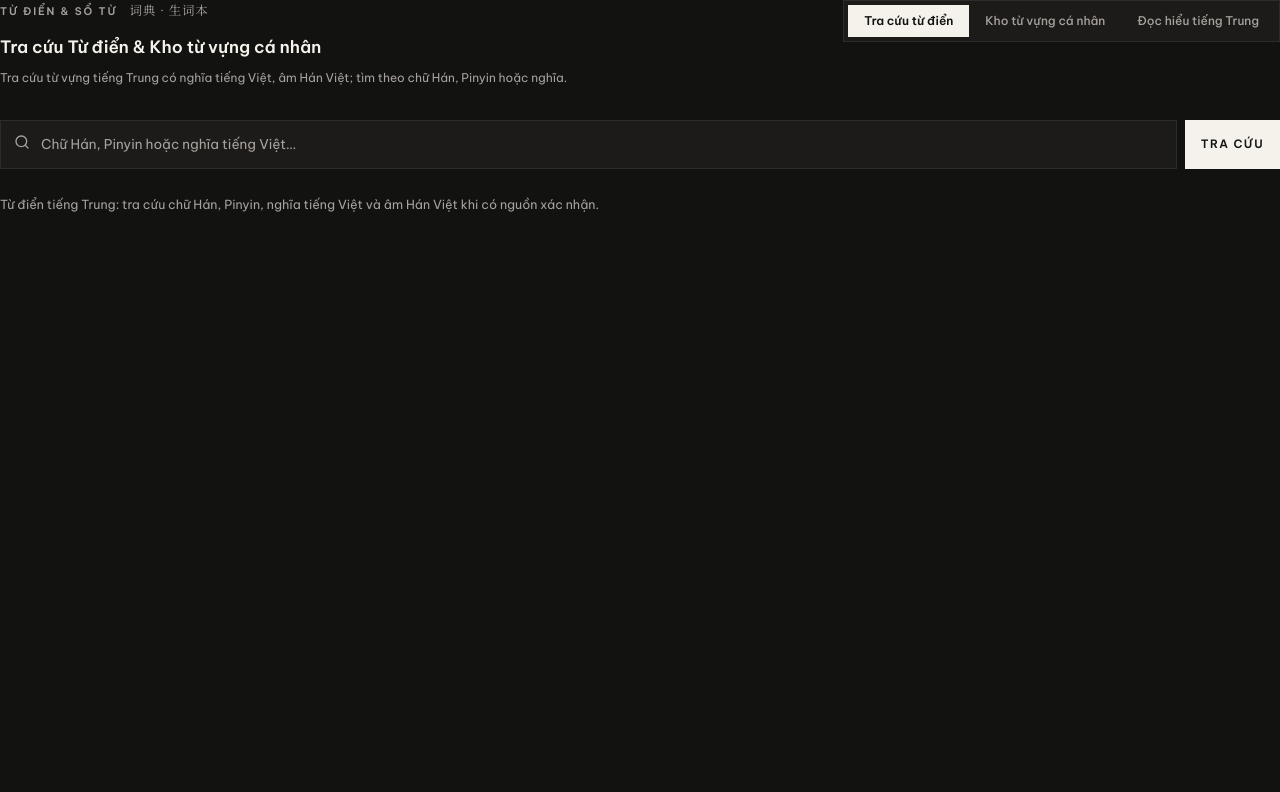
Test: missing requires explicit dictionary selection
The width and height of the screenshot is (1280, 792).
Step 1. Click the button "Đọc hiểu tiếng Trung" → [1198, 21], box [1121,5,1275,37]
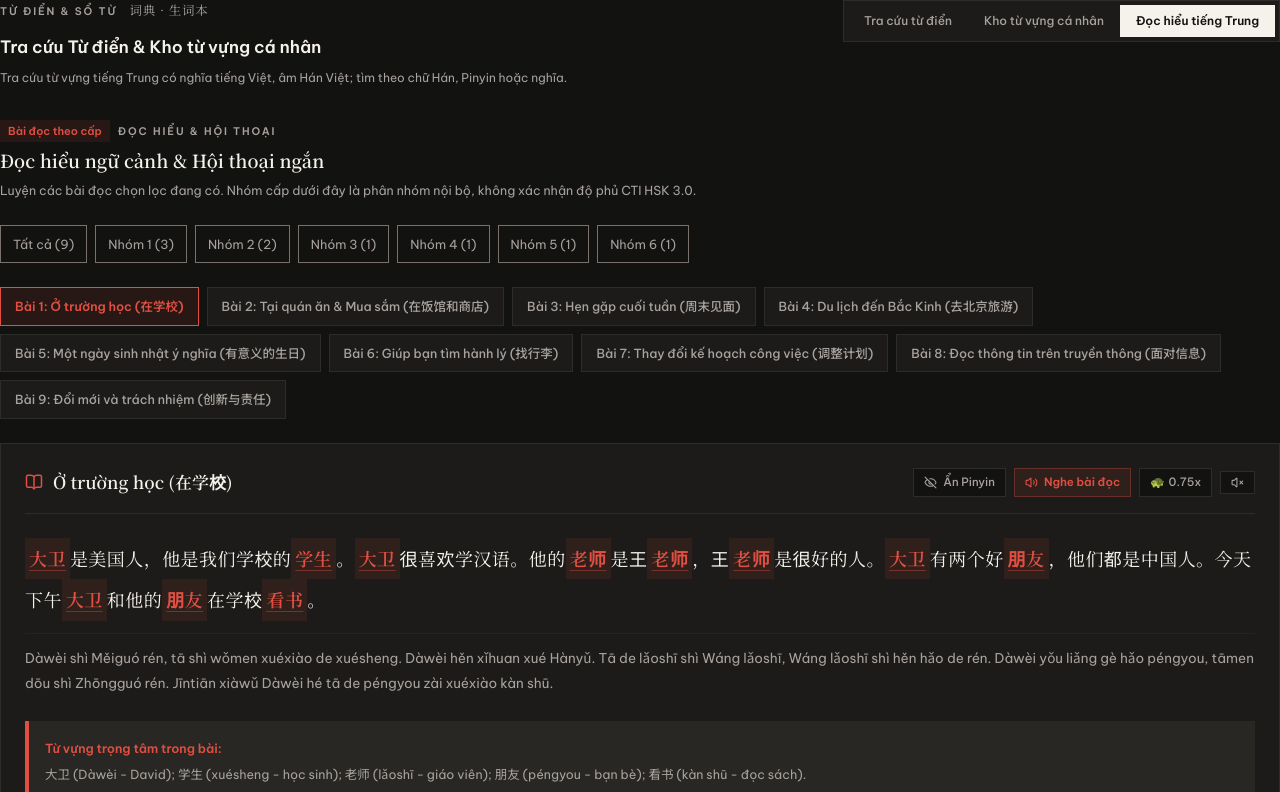
Step 2. Click the button named "Tra nhanh từ \"学生\"" → [314, 559], box [291,538,336,579]
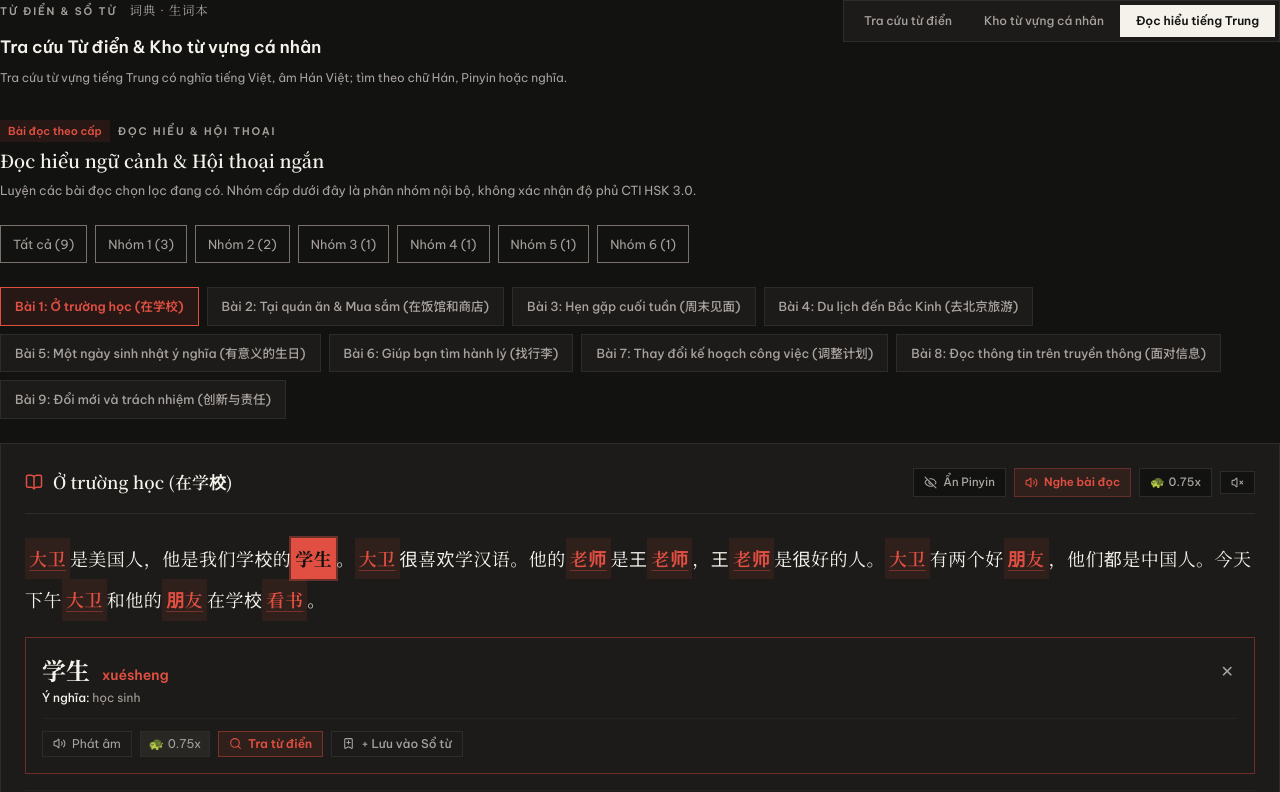
expect the button "+ Lưu vào Sổ từ" is enabled: met
Step 3. Click the button "+ Lưu vào Sổ từ" → [397, 744], box [331,731,463,757]
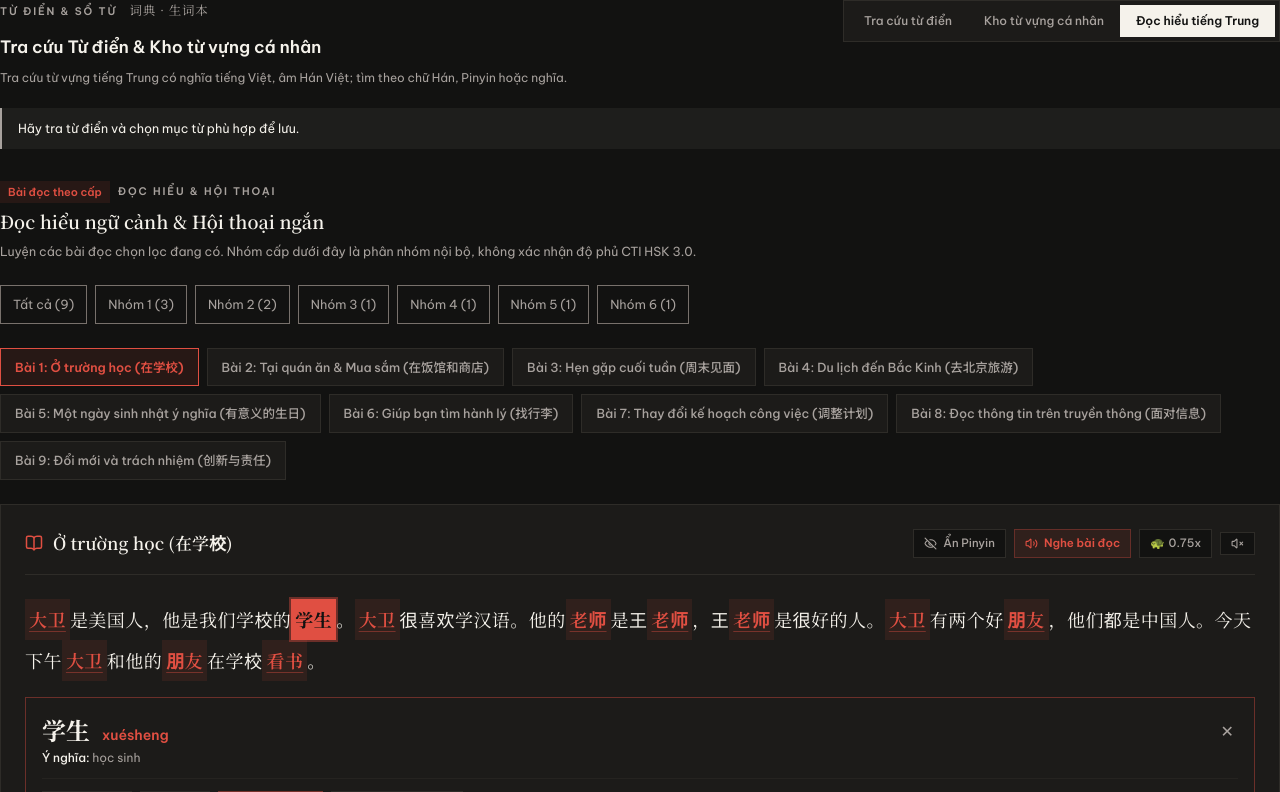
expect the text "Hãy tra từ điển và chọn mục từ phù hợp để lưu." is shown: met, box [0,108,1279,149]
